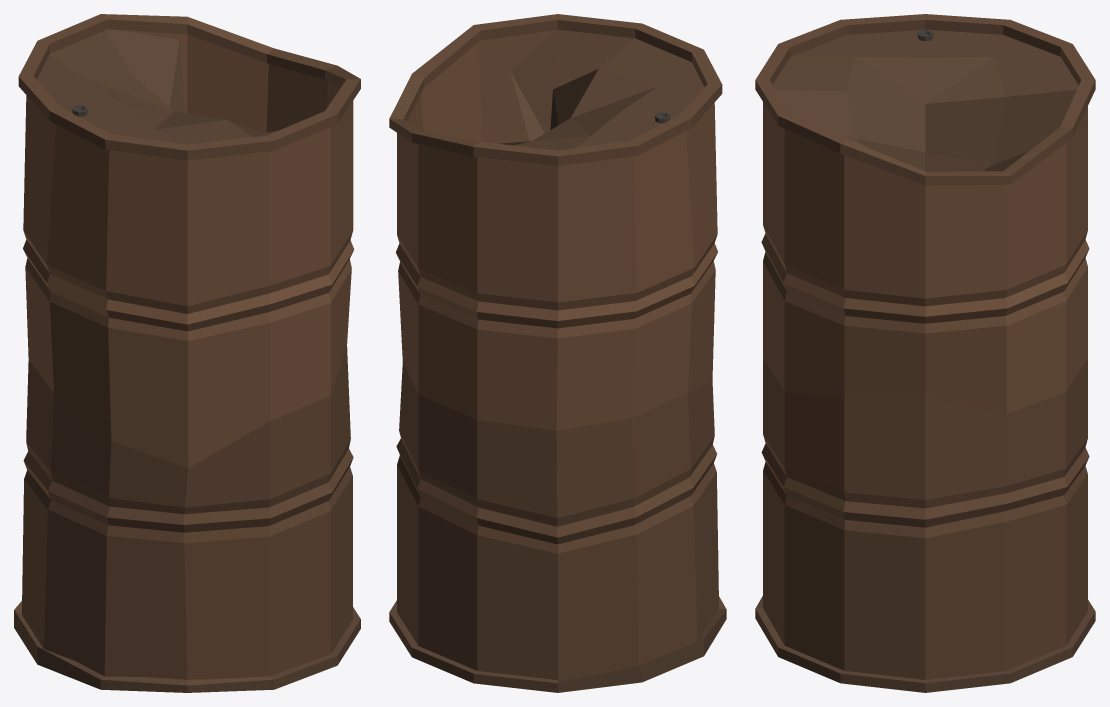
File: SM_Props_Farm_Barrel_Steel_Old.fbx
3 views of the same model, side by side, from view 1: azimuth 30°, elevation 25°; view 2: azimuth 150°, elevation 25°; view 3: azimuth 270°, elevation 25° (orthographic). The views are drawn at different scales.
Parts seen in each view (by area): view 1: SM_Props_Farm_Barrel_Steel_Old; view 2: SM_Props_Farm_Barrel_Steel_Old; view 3: SM_Props_Farm_Barrel_Steel_Old.
Boxes of the visible parts, box(x1,y1,x2,y2) form: SM_Props_Farm_Barrel_Steel_Old: box(14, 14, 360, 692); SM_Props_Farm_Barrel_Steel_Old: box(389, 14, 726, 692); SM_Props_Farm_Barrel_Steel_Old: box(755, 14, 1095, 692).
Bounding box in the file's own units: 88.65 × 156 × 88.65.
